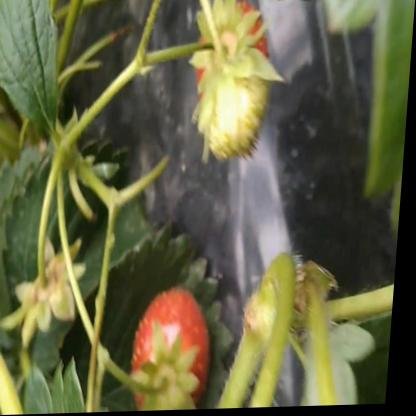ripe: (127, 283, 223, 408), (193, 0, 275, 118)
unripe: (204, 60, 271, 173)
